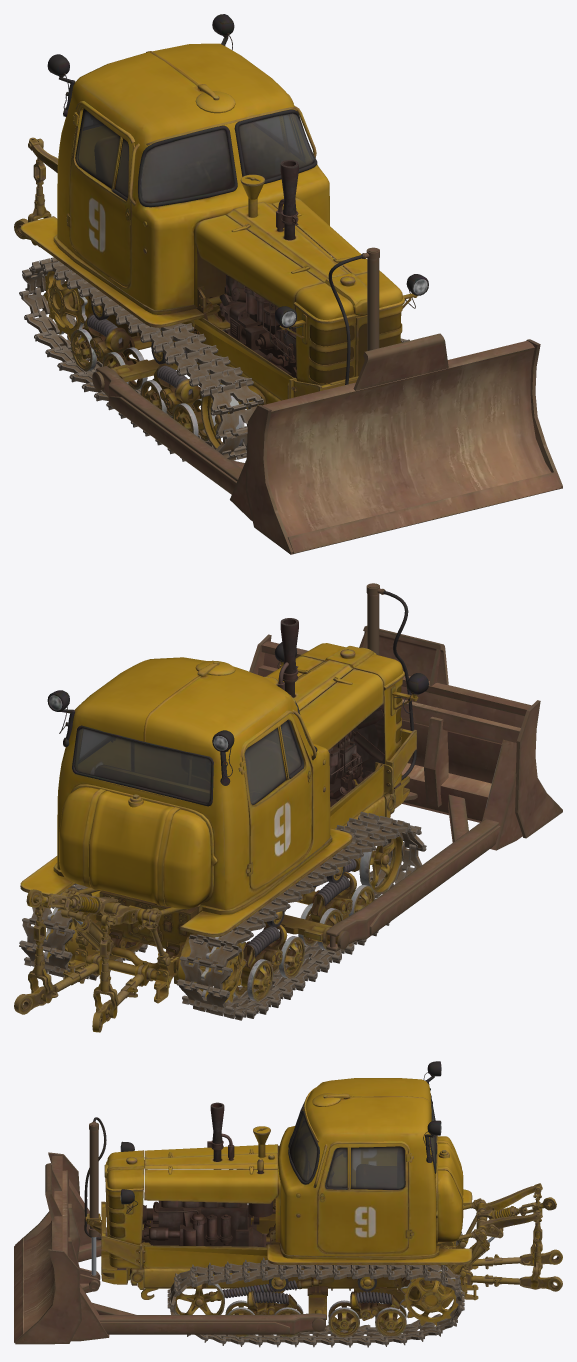
File: tractor-dt75.glb
3 renders of one model, top to bottom at view 1: azimuth 30°, elevation 25°; view 2: azimuth 150°, elevation 25°; view 3: azimuth 270°, elevation 25°, orthographic. The views are drawn at different scales.
Visible parts, largest first — view 1: dt_75; view 2: dt_75; view 3: dt_75.
Part boxes in pixels (left/top/right/bottom): dt_75: left=14, top=14, right=562, bottom=554; dt_75: left=14, top=583, right=562, bottom=1032; dt_75: left=14, top=1061, right=562, bottom=1347.
Size of the model in its own units: 2.61 by 2.73 by 6.19.
Materials: 6 (6 with a texture image).
